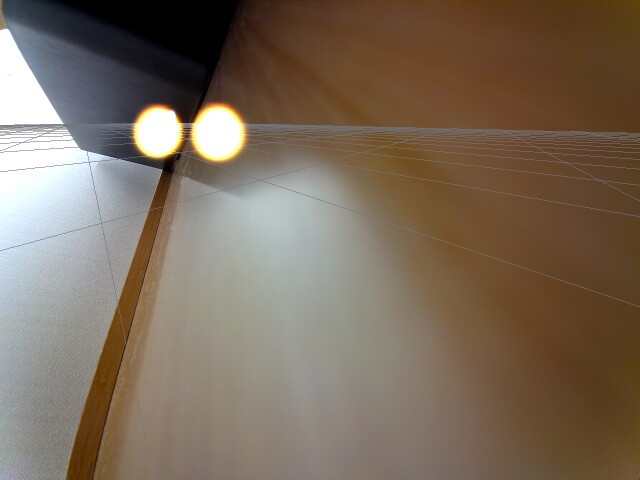firebig: (191, 99, 257, 171)
